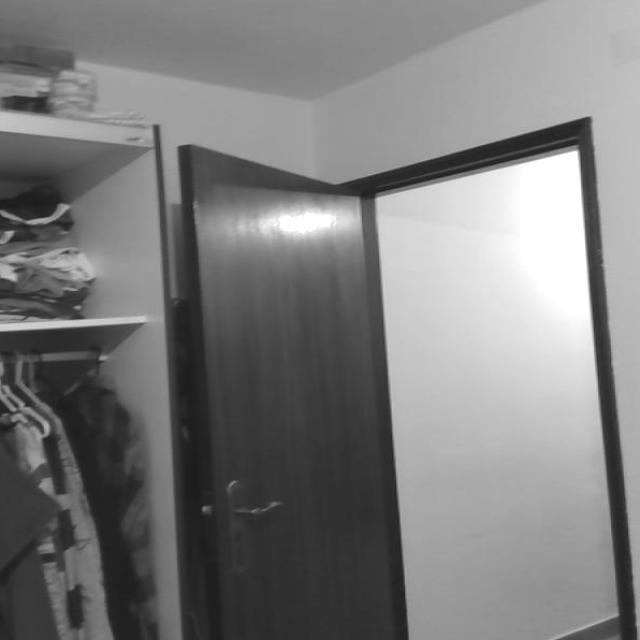door: (176, 133, 405, 638)
